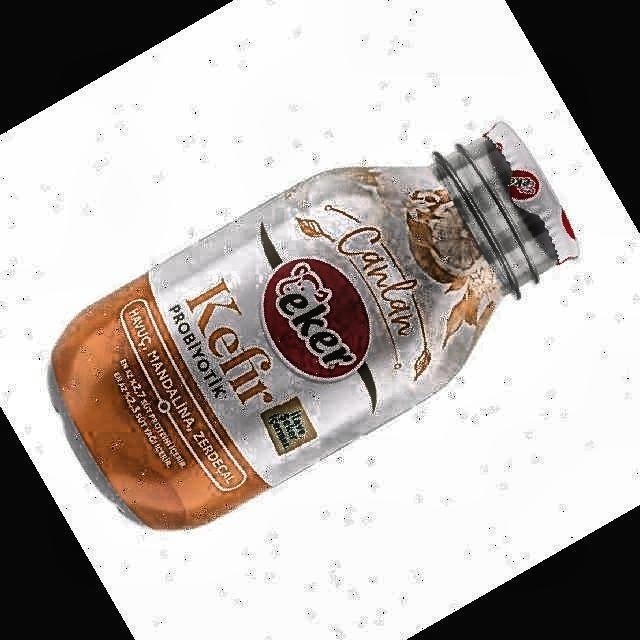plastic: (50, 122, 579, 529)
